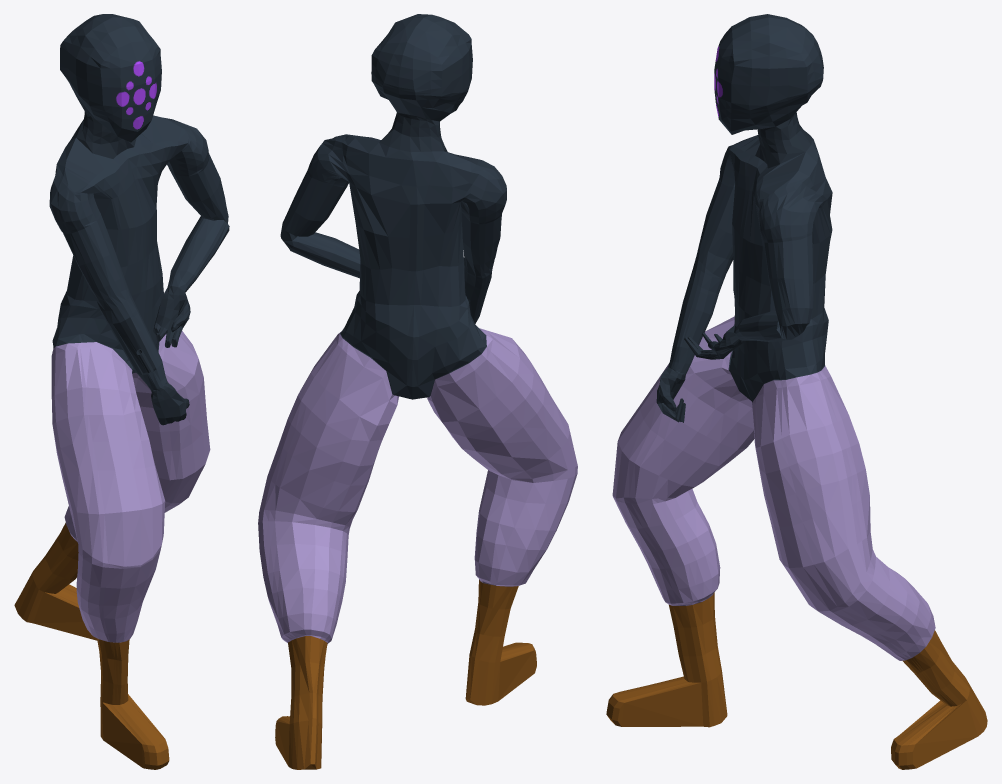
File: Oracle_WB_000012.obj
The picture shows the model from 3 angles, left to right: view 1: azimuth 30°, elevation 25°; view 2: azimuth 150°, elevation 25°; view 3: azimuth 270°, elevation 25°; orthographic projection. The views are drawn at different scales.
Parts seen in each view (by area): view 1: Cube; view 2: Cube; view 3: Cube.
Boxes of the visible parts, left/top/right/bottom form: Cube: left=14, top=14, right=229, bottom=769; Cube: left=258, top=14, right=577, bottom=769; Cube: left=606, top=14, right=987, bottom=769.
Size of the model in its own units: 1.2 by 3.67 by 1.77.
